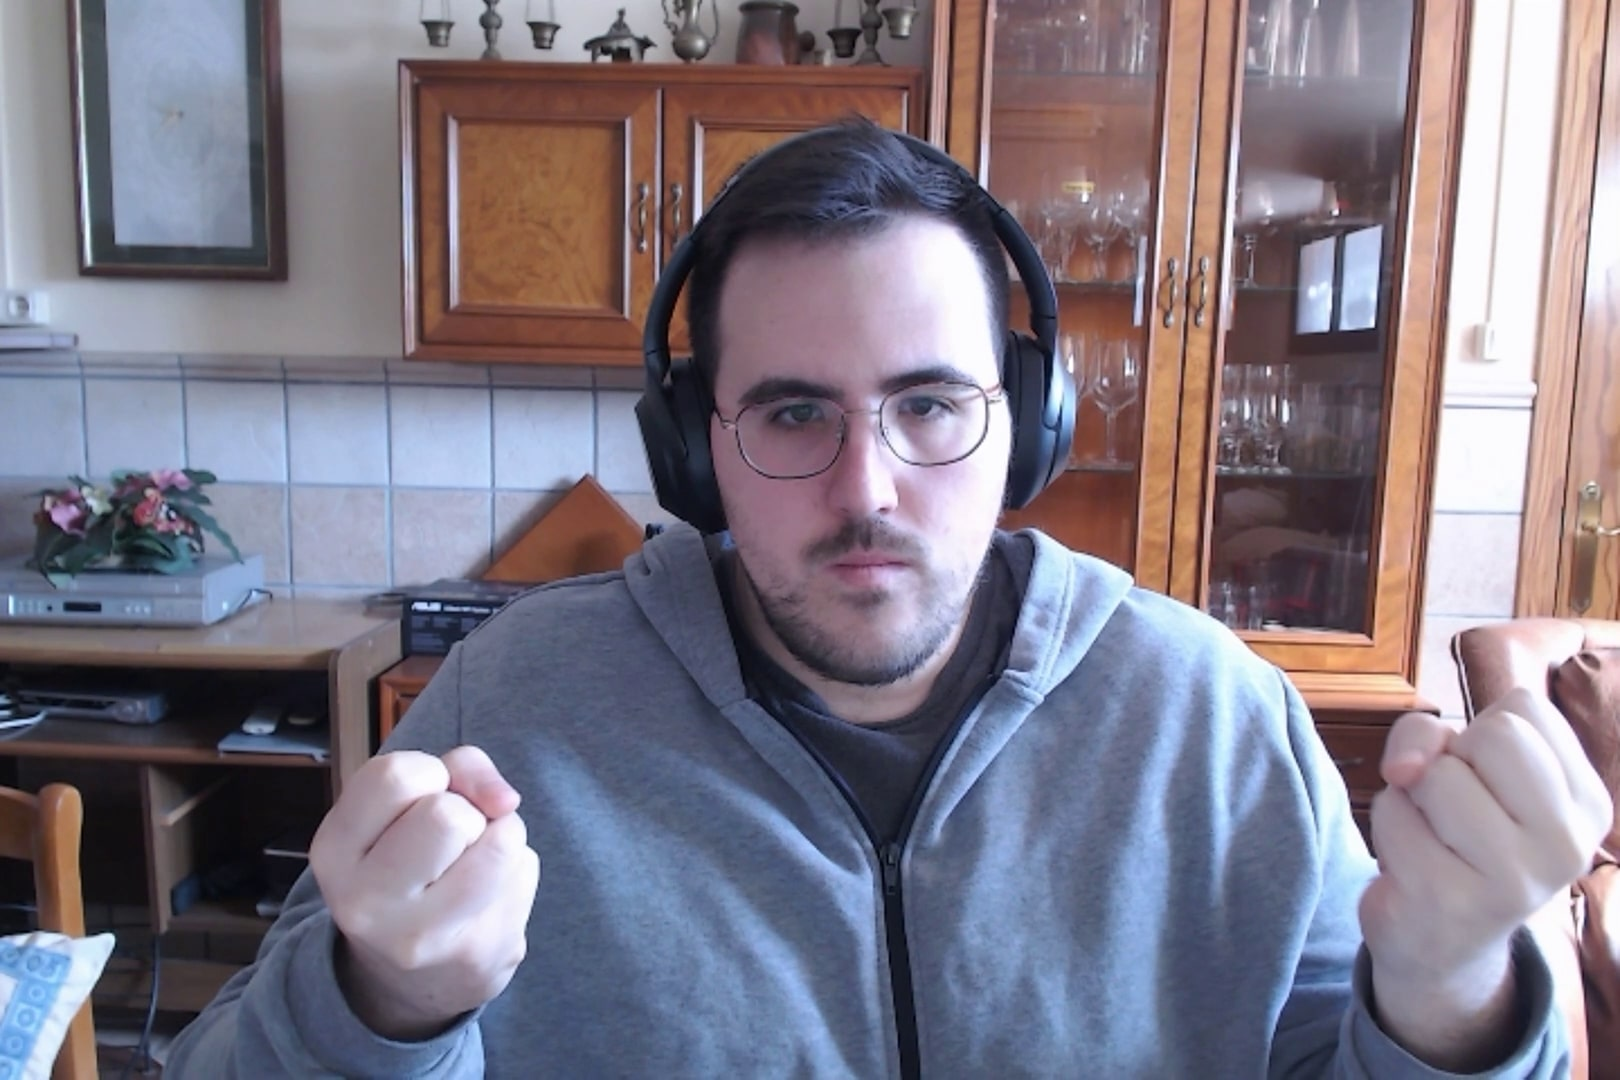hand: (1356, 683, 1620, 986), (307, 742, 546, 1029)
